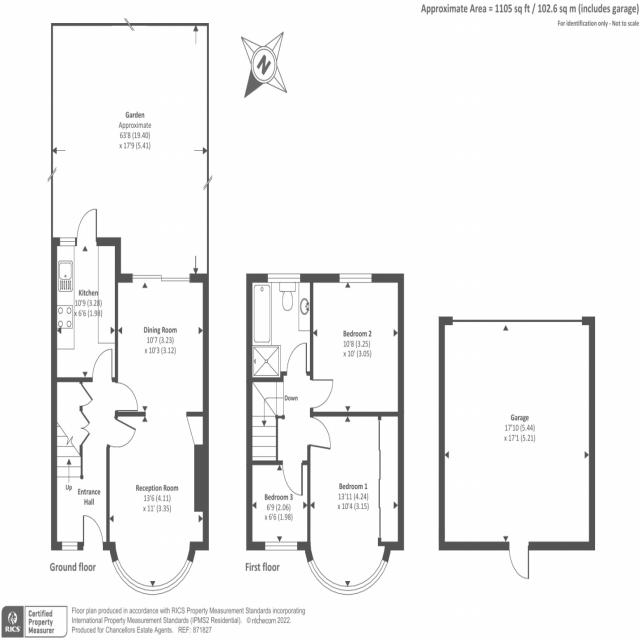DOOR: (107, 415, 137, 449), (75, 207, 98, 247), (507, 540, 530, 580), (308, 415, 332, 452), (90, 347, 115, 382), (281, 460, 304, 496), (310, 378, 335, 411), (82, 514, 104, 551), (285, 342, 308, 376), (115, 382, 140, 412)
ROOM: (106, 273, 209, 596), (304, 410, 404, 596), (309, 274, 404, 417), (51, 207, 121, 382), (245, 460, 311, 550)
SLIDING DOOR: (130, 273, 194, 285)
WINDOW: (111, 556, 194, 596), (307, 556, 388, 595), (267, 273, 302, 283), (338, 273, 373, 283), (263, 541, 298, 550), (58, 237, 77, 247), (59, 541, 79, 550)
